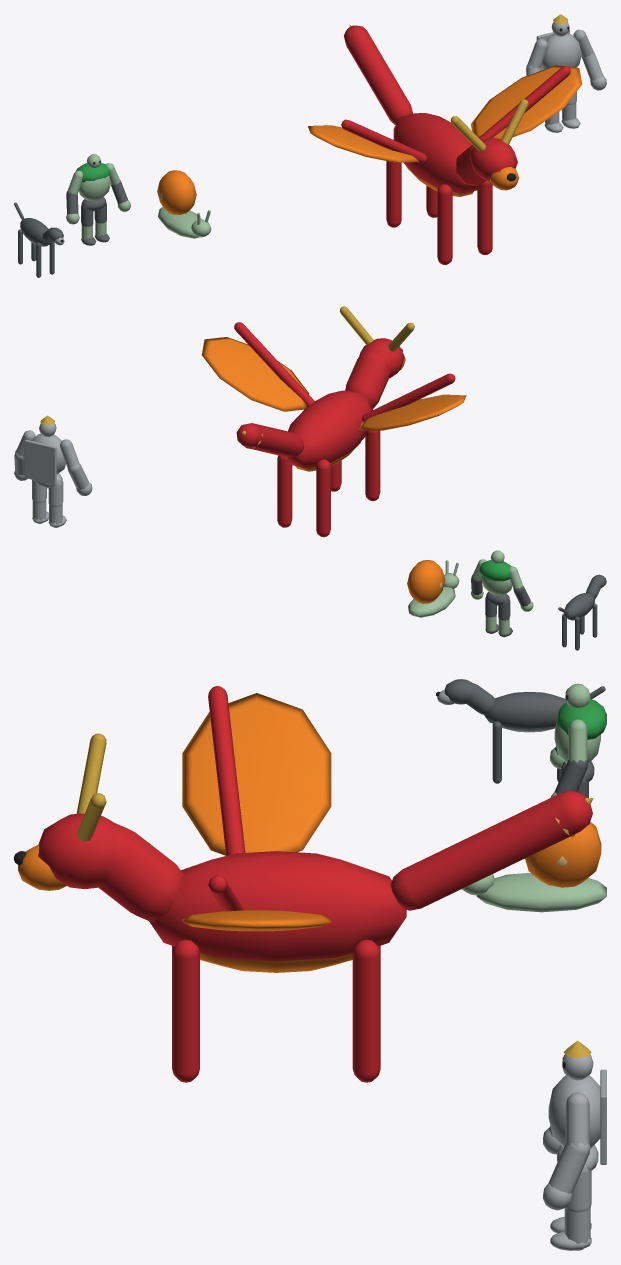
Rendered from kingsreach.glb.
The picture shows the model from 3 angles, top to bottom: view 1: azimuth 30°, elevation 25°; view 2: azimuth 150°, elevation 25°; view 3: azimuth 270°, elevation 25°; orthographic projection. The views are drawn at different scales.
Visible parts, largest first — view 1: body (×3), wing_L, joint_neck, joint_tail, wing_R, torso (×2), shell, leg_0R, leg_0L, leg_1R, arm_lower_L, arm_upper_R (+2 smaller); view 2: body (×3), wing_L, joint_neck, wing_R, torso (×2), joint_tail, shell, leg_1R, leg_0R, leg_1L, arm_lower_R; view 3: body (×3), wing_R, joint_neck (×2), joint_tail, torso (×2), leg_1L, leg_0L, wing_L, shell, arm_lower_L (×2), arm_upper_L (×2), leg_lower_L (+2 smaller).
Part boxes in pixels (bbox=[...]): body (×3): bbox=[20, 113, 481, 246]; wing_L: bbox=[471, 65, 582, 139]; joint_neck: bbox=[450, 99, 528, 190]; joint_tail: bbox=[344, 25, 412, 124]; wing_R: bbox=[308, 119, 427, 163]; torso (×2): bbox=[76, 29, 581, 200]; shell: bbox=[157, 170, 196, 214]; leg_0R: bbox=[437, 184, 452, 264]; leg_0L: bbox=[477, 180, 492, 255]; leg_1R: bbox=[386, 161, 401, 227]; arm_lower_L: bbox=[581, 50, 606, 90]; arm_upper_R: bbox=[528, 39, 547, 68]; body (×3): bbox=[287, 390, 594, 620]; wing_L: bbox=[202, 322, 314, 411]; joint_neck: bbox=[339, 306, 414, 408]; wing_R: bbox=[359, 373, 466, 430]; torso (×2): bbox=[24, 433, 512, 595]; joint_tail: bbox=[236, 423, 303, 457]; shell: bbox=[407, 560, 445, 603]; leg_1R: bbox=[316, 459, 330, 537]; leg_0R: bbox=[365, 430, 380, 501]; leg_1L: bbox=[277, 455, 292, 527]; arm_lower_R: bbox=[67, 463, 92, 495]; body (×3): bbox=[149, 692, 606, 972]; wing_R: bbox=[182, 686, 331, 855]; joint_neck (×2): bbox=[14, 679, 495, 922]; joint_tail: bbox=[390, 790, 593, 910]; torso (×2): bbox=[548, 698, 606, 1164]; leg_1L: bbox=[352, 939, 380, 1082]; leg_0L: bbox=[172, 939, 199, 1082]; wing_L: bbox=[182, 875, 331, 931]; shell: bbox=[525, 822, 601, 887]; arm_lower_L (×2): bbox=[543, 760, 590, 1210]; arm_upper_L (×2): bbox=[565, 719, 589, 1146]; leg_lower_L: bbox=[550, 1207, 591, 1250].
Bounding box in the file's own units: 123 × 33.86 × 60.66.
